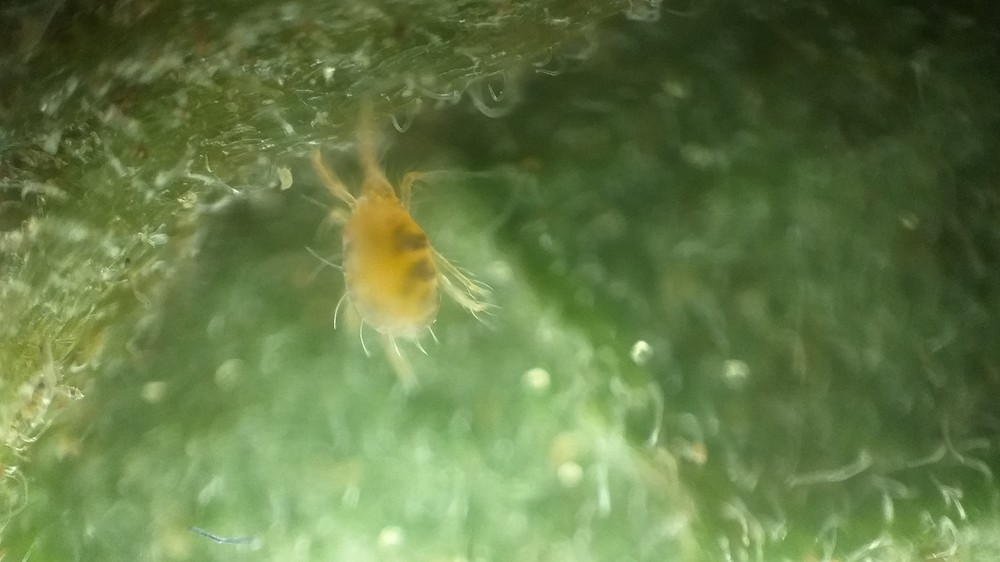Aracnido Rojo: (283, 110, 511, 384)
